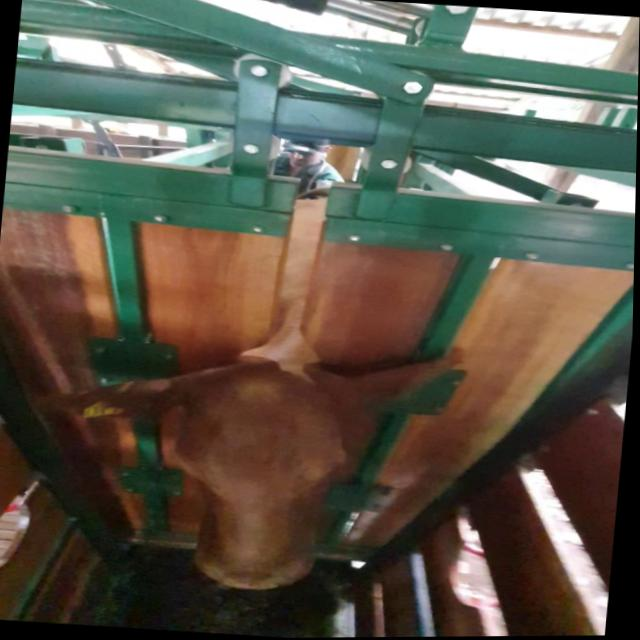cowFace: (165, 362, 360, 595)
